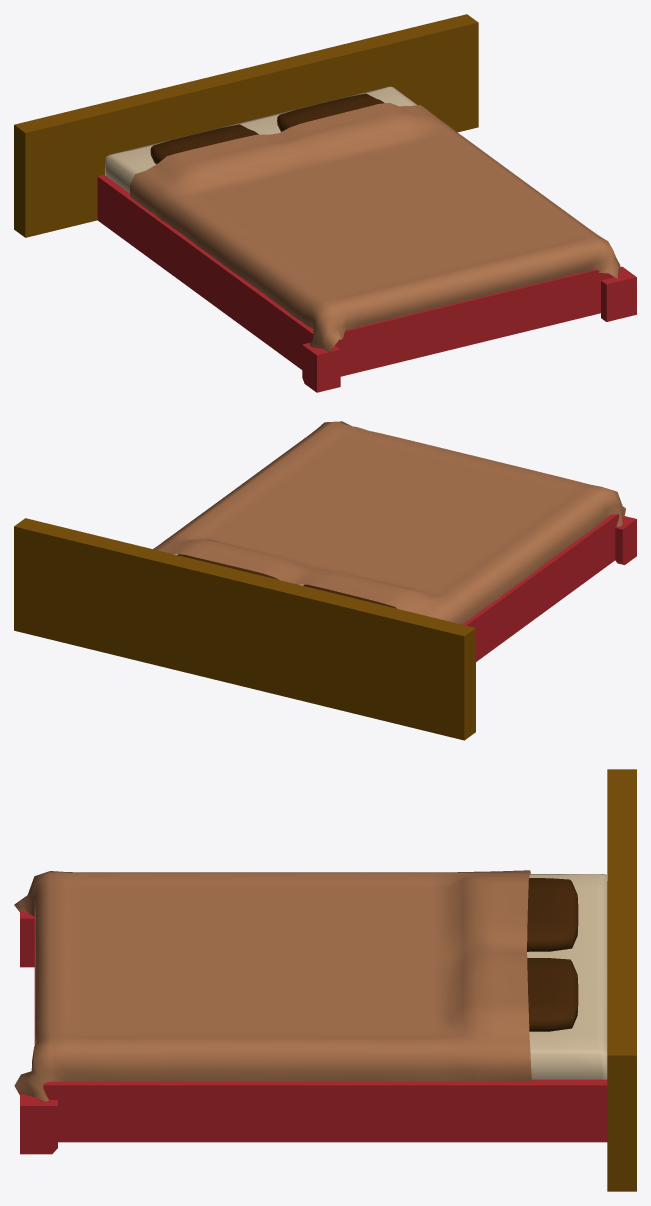
File: camaPadres.fbx
The picture shows the model from 3 angles, top to bottom: view 1: azimuth 30°, elevation 25°; view 2: azimuth 150°, elevation 25°; view 3: azimuth 270°, elevation 25°; orthographic projection. The views are drawn at different scales.
Visible parts, largest first — view 1: Plane; view 2: Plane; view 3: Plane.
Part boxes in pixels (x1=…): Plane: x1=14, y1=14, x2=636, y2=392; Plane: x1=14, y1=421, x2=636, y2=740; Plane: x1=14, y1=769, x2=636, y2=1191.
Bounding box in the file's own units: 1255 × 290 × 1154.
